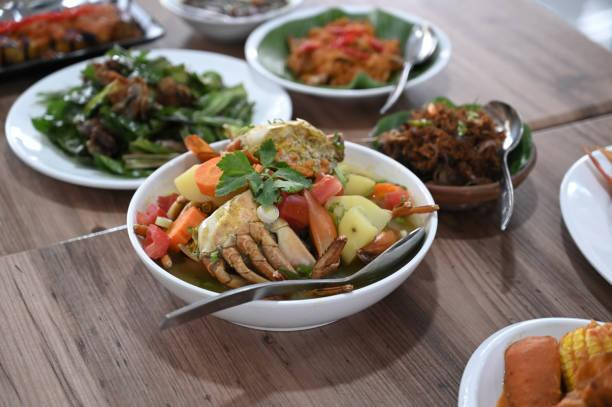Braised Crucian Carp: (126, 137, 435, 330), (7, 48, 293, 189), (242, 3, 449, 104), (368, 97, 530, 210)
